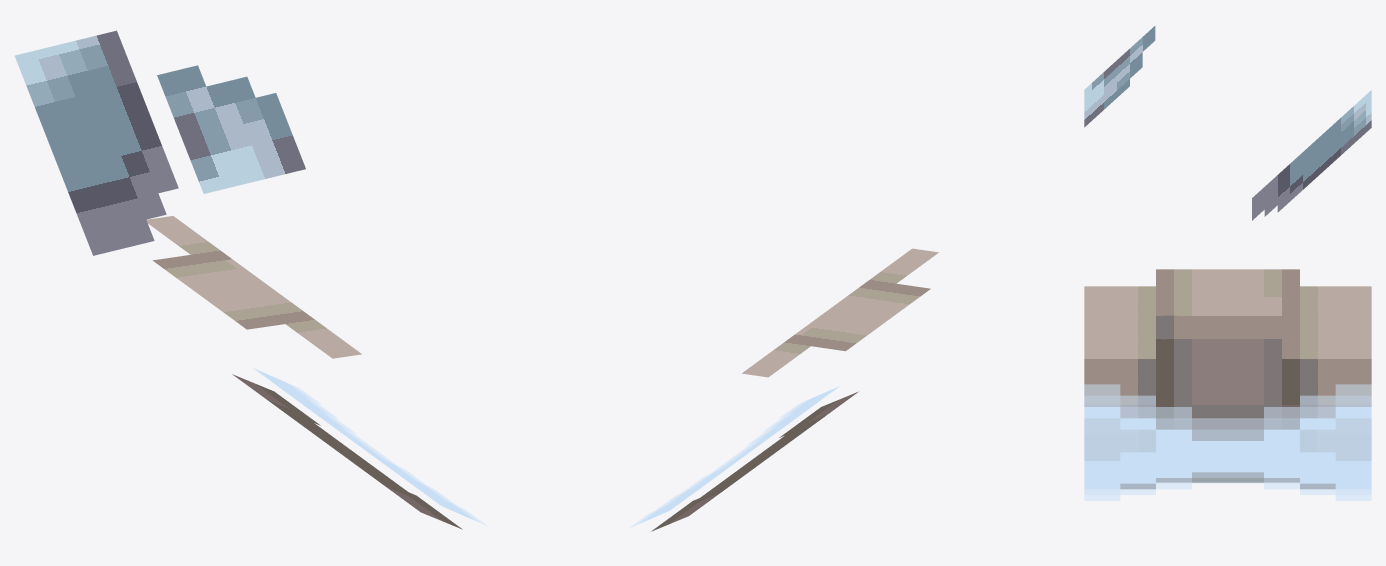
3 views of the same model, side by side, from view 1: azimuth 30°, elevation 25°; view 2: azimuth 150°, elevation 25°; view 3: azimuth 270°, elevation 25° (orthographic). The views are drawn at different scales.
Size of the model in its own units: 1.05 by 1.58 by 1.
3 materials, 3 textured.
